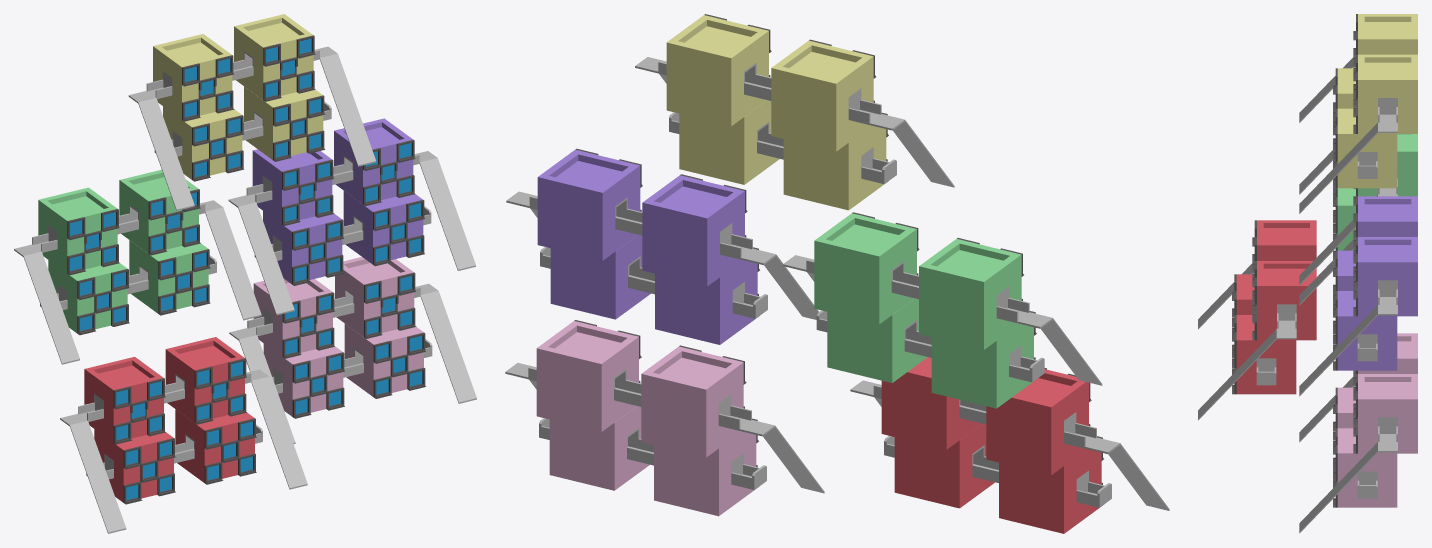
File: Rubix cube.fbx
3 renders of one model, left to right at view 1: azimuth 30°, elevation 25°; view 2: azimuth 150°, elevation 25°; view 3: azimuth 270°, elevation 25°, orthographic. The views are drawn at different scales.
Visible parts, largest first — view 1: Cube, Cube.004, Cube.001, Cube.002, Cube.003; view 2: Cube.004, Cube.001, Cube.003, Cube.002, Cube; view 3: Cube.002, Cube.004, Cube, Cube.003, Cube.001.
Boxes of the visible parts, box(x1,y1,x2,y2) form: Cube: box(60, 337, 307, 533); Cube.004: box(128, 14, 376, 210); Cube.001: box(14, 169, 261, 364); Cube.002: box(228, 118, 475, 315); Cube.003: box(229, 257, 476, 443); Cube.004: box(635, 14, 954, 210); Cube.001: box(783, 212, 1102, 408); Cube.003: box(505, 320, 824, 516); Cube.002: box(506, 148, 818, 344); Cube: box(850, 357, 1169, 533); Cube.002: box(1299, 196, 1417, 396); Cube.004: box(1299, 14, 1417, 213); Cube: box(1198, 220, 1316, 420); Cube.003: box(1299, 333, 1417, 533); Cube.001: box(1299, 134, 1417, 285).
Bounding box in the file's own units: 61475 × 52860 × 27235.
